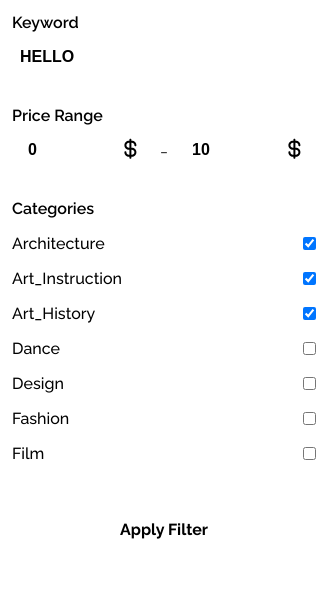
Test Component : Filter › test max and min filter inputs › max must bigger than min
Replace the text in the field with test id "booksFilterMaxInput" with "2" at (246, 150), box [176, 133, 316, 167]
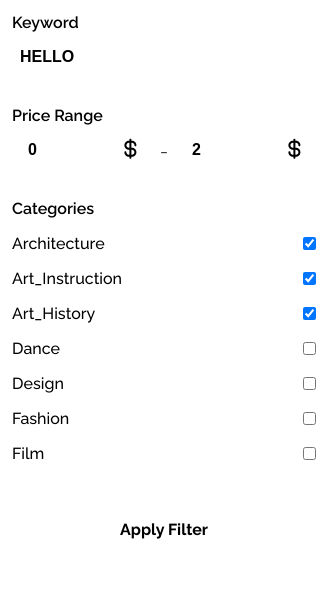
Replace the text in the field with test id "booksFilterMinInput" with "3" at (82, 150), box [12, 133, 152, 167]
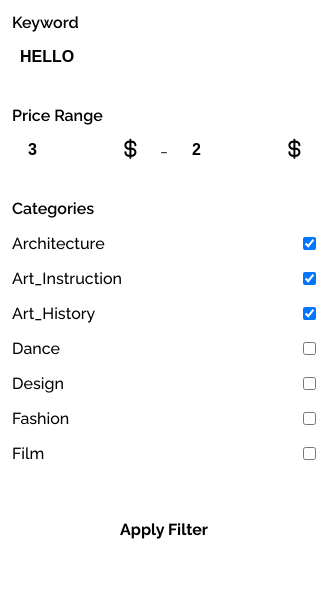
Click the button with test id "booksFilterApplyFilterButton" at (164, 530), box [12, 514, 316, 546]
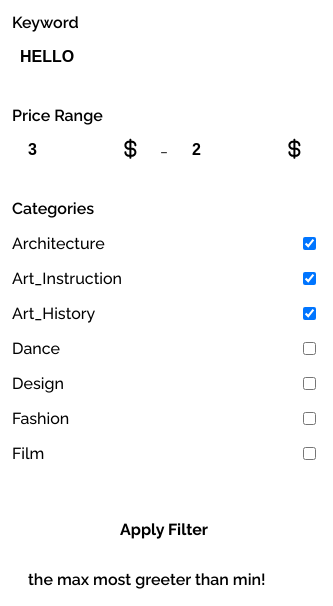
Expected: the element with test id "errorMessage" reads "the max most greeter than min!", [28, 570, 266, 589]
